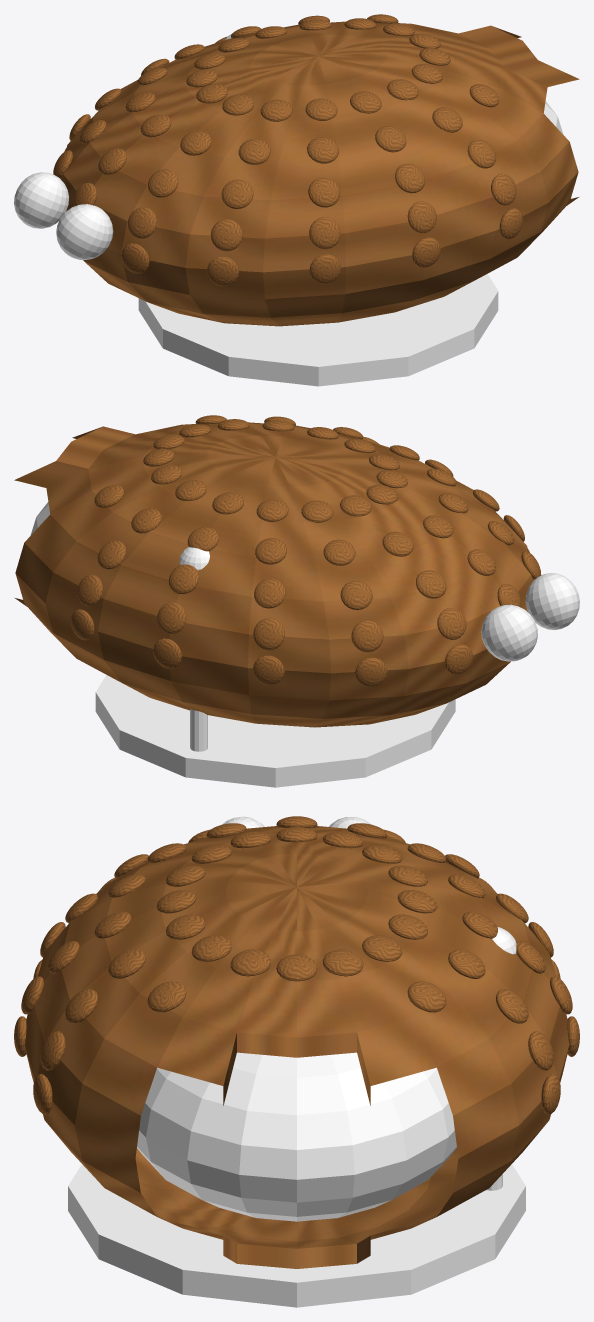
Rendered from poc_muyu_v2.glb.
3 views of the same model, one above another, from view 1: azimuth 30°, elevation 25°; view 2: azimuth 150°, elevation 25°; view 3: azimuth 270°, elevation 25° (orthographic). The views are drawn at different scales.
Parts seen in each view (by area): view 1: Muyu_Body, Base, Tail_L, Tail_R, Scale_4_10, Scale_4_11, Scale_3_11, Scale_3_10, Scale_5_10, Scale_4_12, Scale_5_11, Scale_4_9 (+22 smaller); view 2: Muyu_Body, Base, Tail_R, Tail_L, Scale_4_6, Scale_4_5, Scale_3_5, Scale_3_6, Scale_5_6, Scale_4_4, Scale_5_5, Scale_4_7 (+24 smaller); view 3: Muyu_Body, Cavity, Base, Scale_2_2, Scale_2_14, Scale_1_0, Scale_1_1, Scale_1_15, Scale_1_2, Scale_1_14, Scale_3_3, Scale_3_13 (+15 smaller).
Boxes of the visible parts, box(x1,y1,x2,y2) form: Muyu_Body: box(60, 21, 579, 326); Base: box(138, 274, 498, 386); Tail_L: box(56, 204, 113, 260); Tail_R: box(14, 172, 68, 228); Scale_4_10: box(210, 219, 242, 251); Scale_4_11: box(309, 217, 340, 249); Scale_3_11: box(308, 177, 339, 207); Scale_3_10: box(221, 179, 253, 209); Scale_5_10: box(207, 256, 238, 286); Scale_4_12: box(407, 201, 436, 233); Scale_5_11: box(309, 254, 340, 283); Scale_4_9: box(128, 207, 156, 238); Muyu_Body: box(14, 422, 533, 727); Base: box(95, 675, 455, 787); Tail_R: box(481, 604, 537, 661); Tail_L: box(525, 573, 579, 630); Scale_4_6: box(351, 620, 383, 652); Scale_4_5: box(253, 618, 284, 650); Scale_3_5: box(254, 578, 285, 608); Scale_3_6: box(340, 580, 372, 610); Scale_5_6: box(355, 657, 387, 687); Scale_4_4: box(157, 602, 186, 634); Scale_5_5: box(253, 655, 284, 685); Scale_4_7: box(437, 608, 466, 639); Muyu_Body: box(24, 826, 569, 1268); Cavity: box(137, 1052, 456, 1221); Base: box(68, 1164, 525, 1307); Scale_2_2: box(407, 981, 446, 1012); Scale_2_14: box(147, 981, 186, 1012); Scale_1_0: box(276, 954, 317, 981); Scale_1_1: box(323, 949, 363, 976); Scale_1_15: box(230, 949, 270, 976); Scale_1_2: box(362, 935, 402, 961); Scale_1_14: box(191, 935, 231, 961); Scale_3_3: box(496, 989, 528, 1023); Scale_3_13: box(65, 989, 97, 1023).
Size of the model in its own units: 1.65 by 0.78 by 1.24.
Materials: 6 (2 with a texture image).
